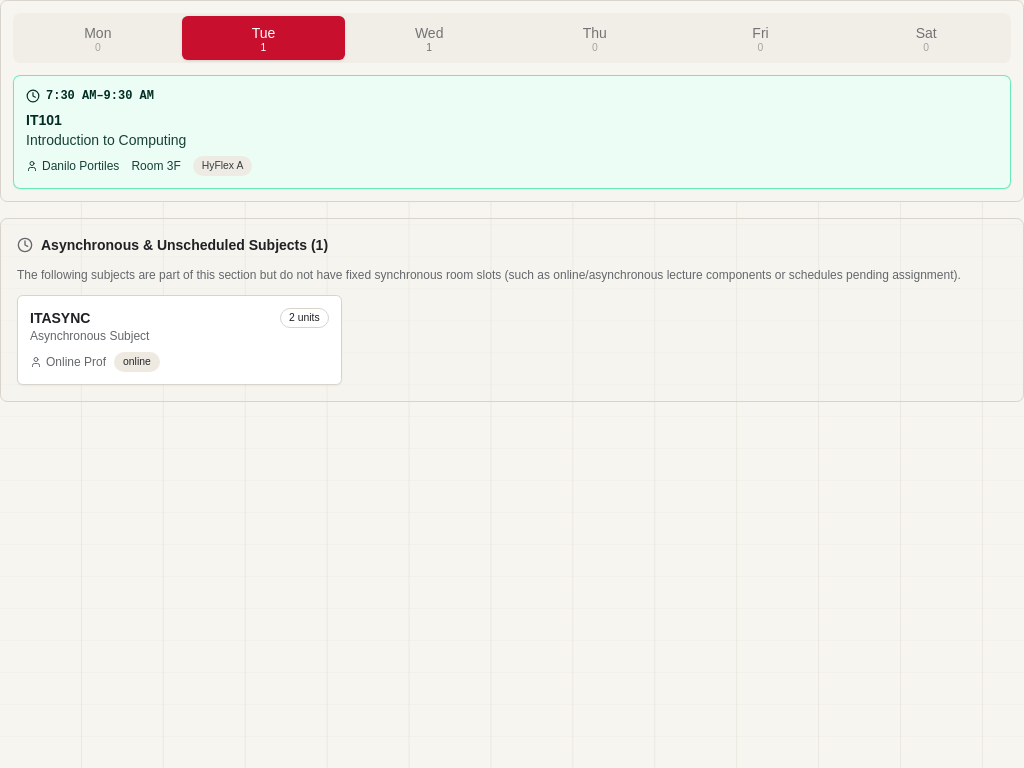
Test: SectionScheduleCalendar on a phone › says so when the chosen day has no classes
Click the tab "Fri 0" at (761, 38), box x1=679 y1=16 x2=842 y2=60
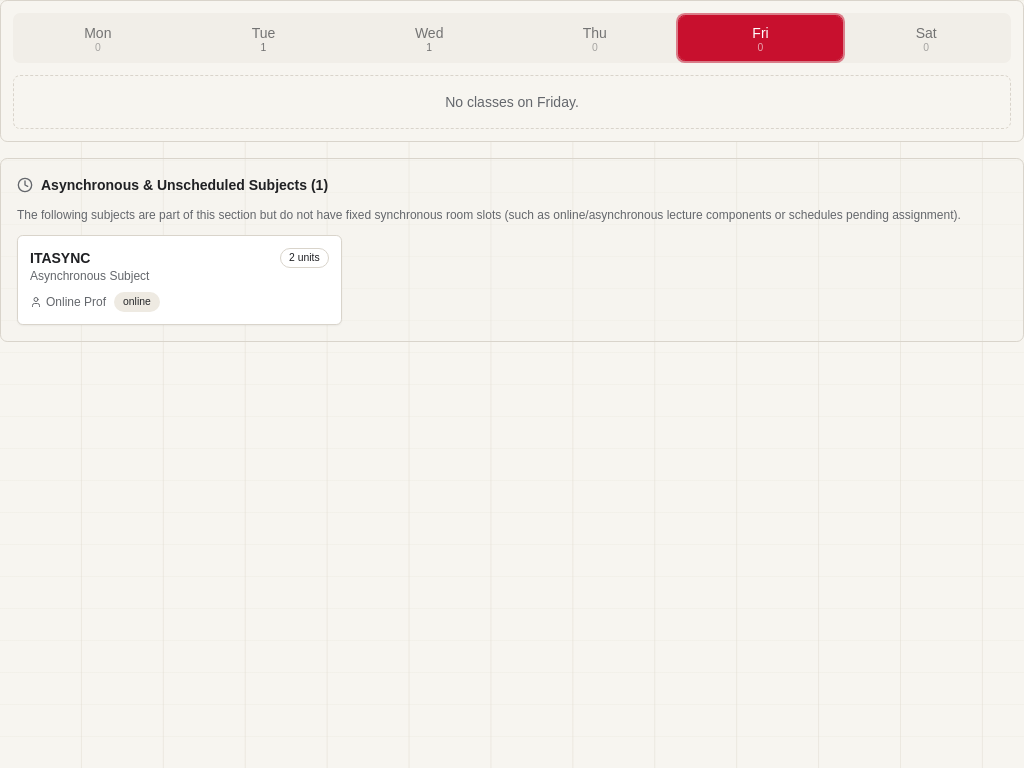
expect the text "No classes on Friday." is shown: met, box x1=13 y1=75 x2=1011 y2=129
